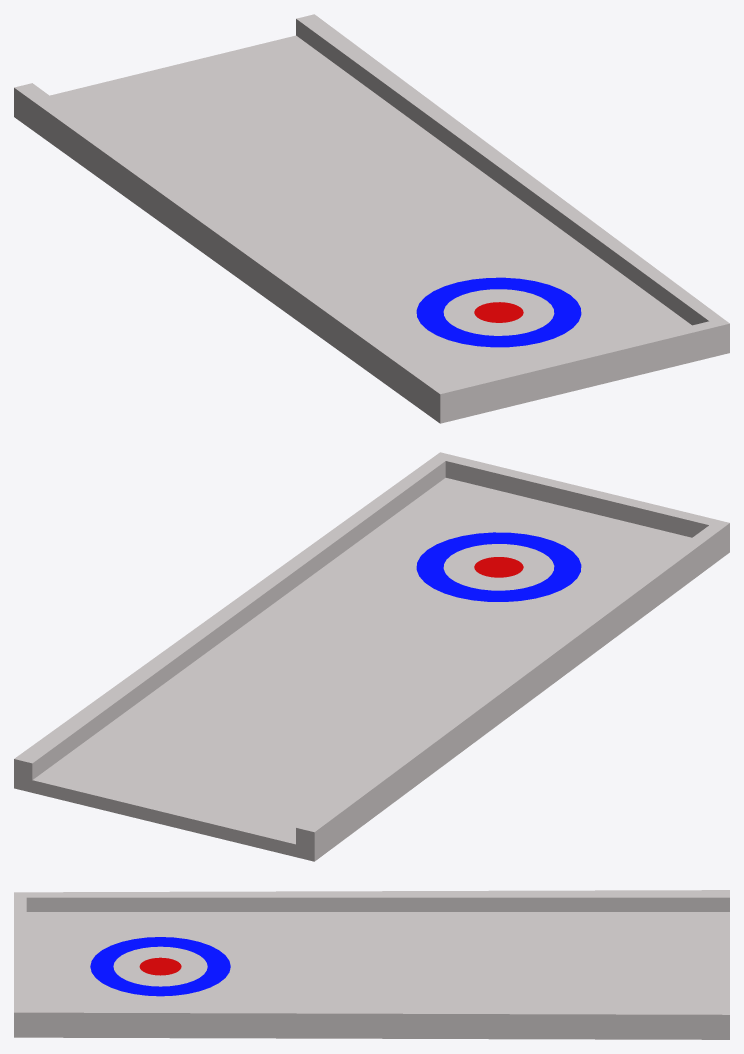
File: curlingfieldv7.fbx
3 views of the same model, one above another, from view 1: azimuth 30°, elevation 25°; view 2: azimuth 150°, elevation 25°; view 3: azimuth 270°, elevation 25° (orthographic). The views are drawn at different scales.
Parts seen in each view (by area): view 1: Circle; view 2: Circle; view 3: Circle.
Part boxes in pixels (x1,y1,x2,y2): Circle: (14, 14, 729, 423); Circle: (14, 452, 729, 861); Circle: (14, 890, 729, 1039).
Size of the model in its own units: 1855 by 174 by 4498.
